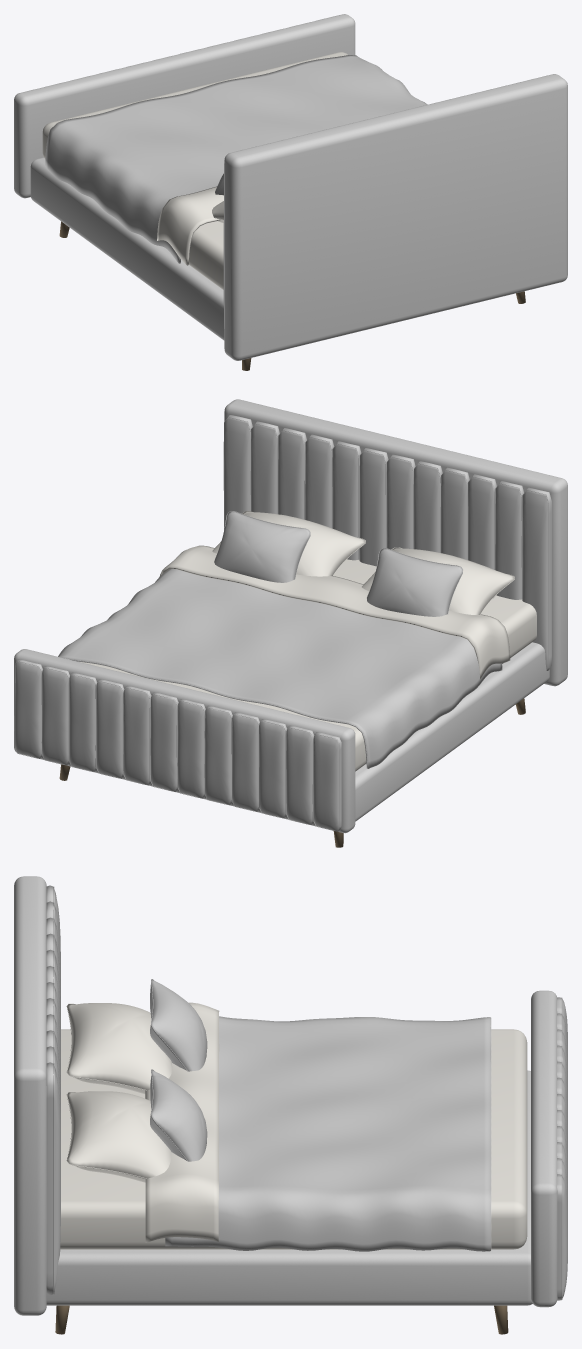
The model's file is bed-channelled.glb.
3 views of the same model, one above another, from view 1: azimuth 30°, elevation 25°; view 2: azimuth 150°, elevation 25°; view 3: azimuth 270°, elevation 25° (orthographic). The views are drawn at different scales.
Visible parts, largest first — view 1: Houseit bed-channelled; view 2: Houseit bed-channelled; view 3: Houseit bed-channelled.
Part boxes in pixels (x1=…): Houseit bed-channelled: x1=14, y1=14, x2=567, y2=370; Houseit bed-channelled: x1=14, y1=399, x2=567, y2=847; Houseit bed-channelled: x1=14, y1=876, x2=567, y2=1334.
Size of the model in its own units: 1.94 by 1.27 by 2.28.
3 materials, 1 textured.
